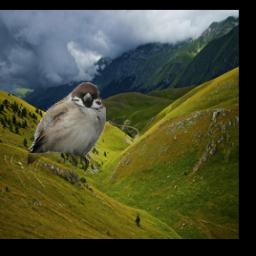Sparrow: (28, 82, 106, 170)
